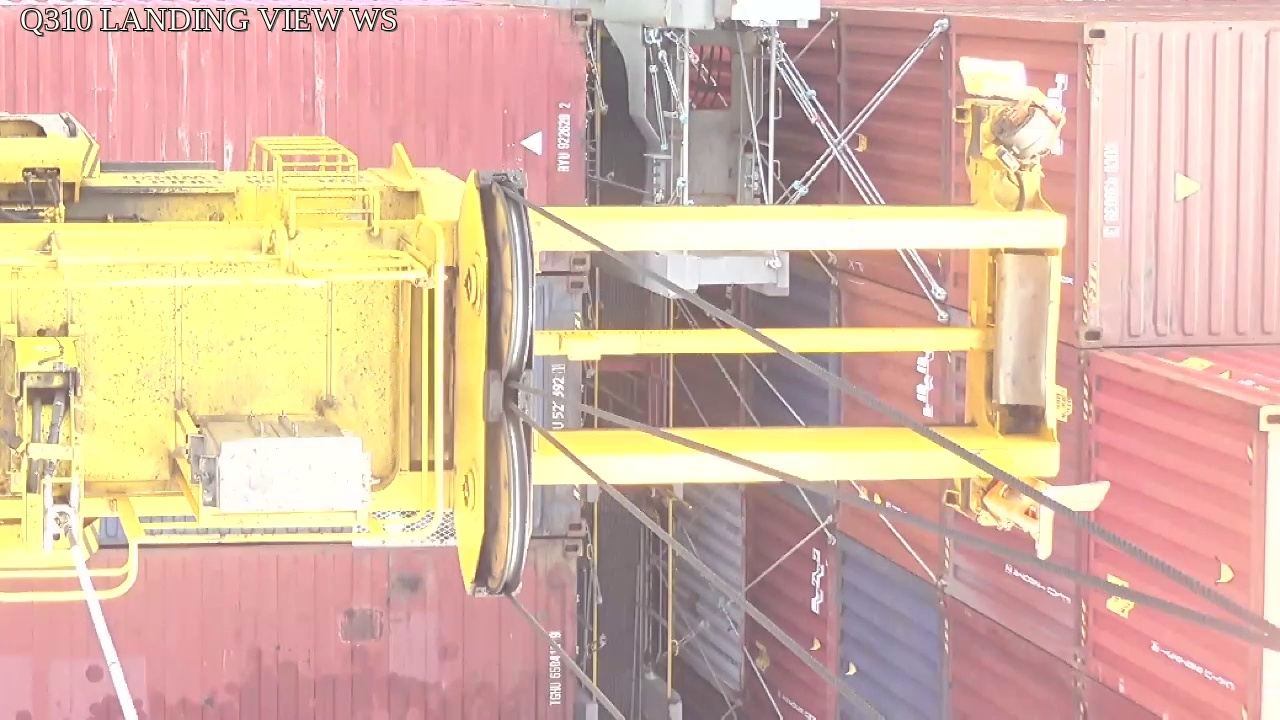right: (455, 169, 538, 599)
